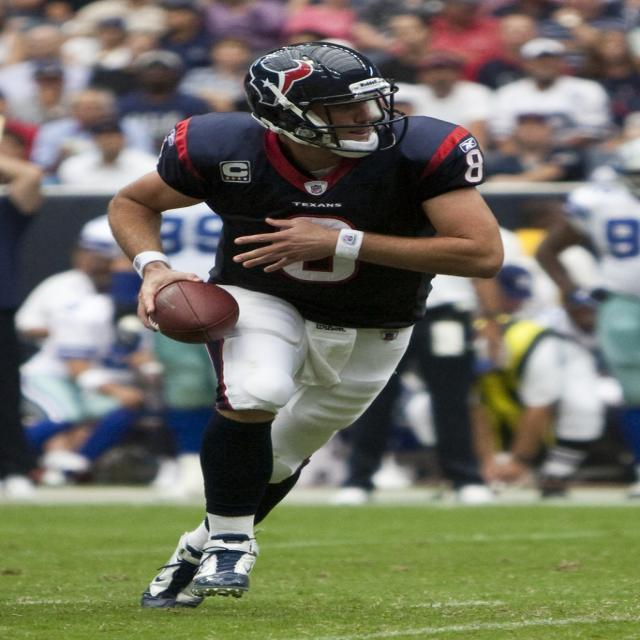ball: (146, 280, 245, 344)
